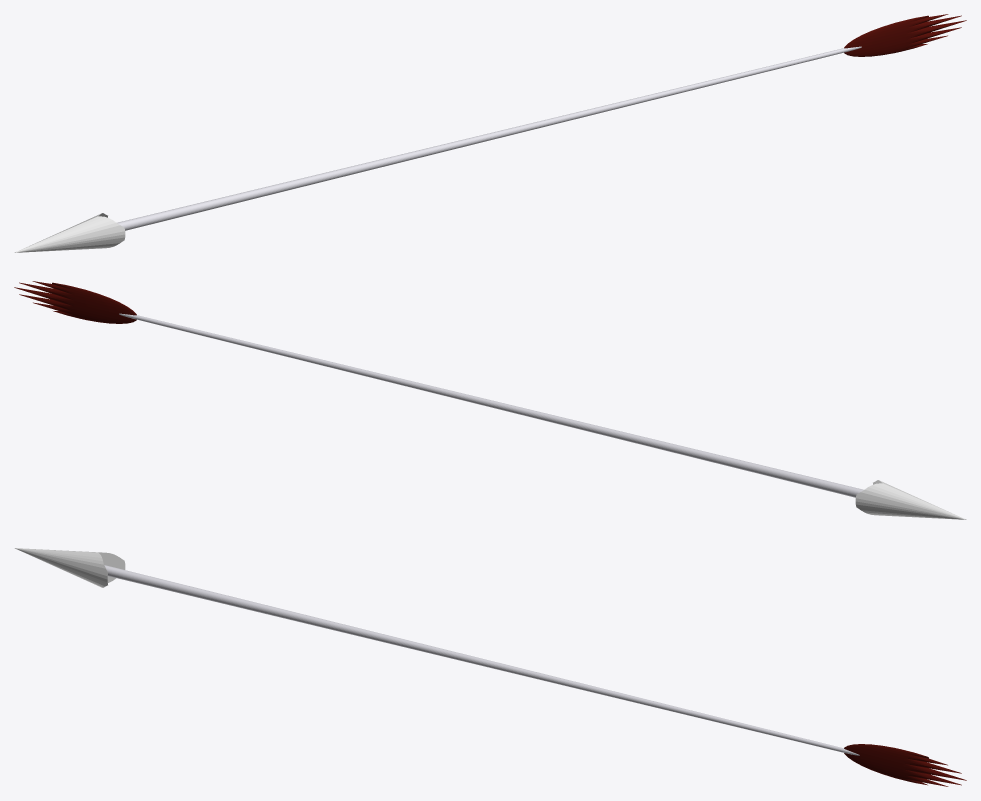
The model's file is Arrow.fbx.
3 renders of one model, top to bottom at view 1: azimuth 30°, elevation 25°; view 2: azimuth 150°, elevation 25°; view 3: azimuth 330°, elevation 25°, orthographic.
Parts seen in each view (by area): view 1: Arrow.003; view 2: Arrow.003; view 3: Arrow.003.
Part boxes in pixels (x1,y1,x2,y2): Arrow.003: [14, 14, 966, 252]; Arrow.003: [14, 281, 966, 519]; Arrow.003: [14, 548, 966, 786].
Size of the model in its own units: 2 by 0.0647 by 0.0647.
